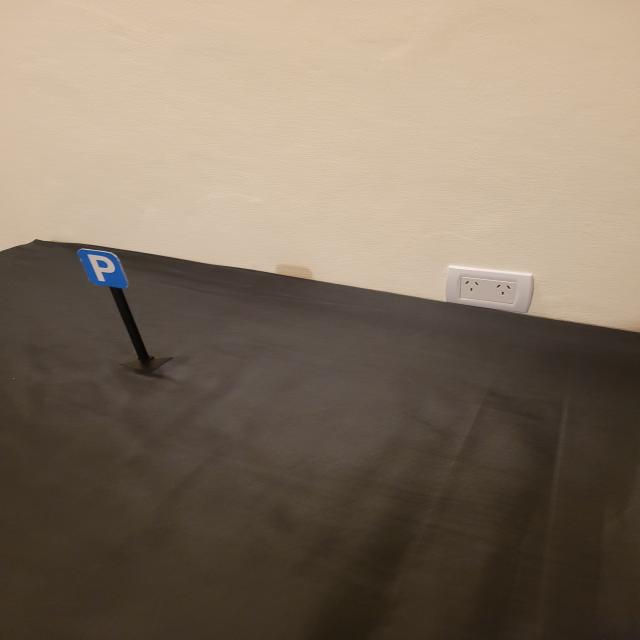parking: (76, 248, 128, 288)
